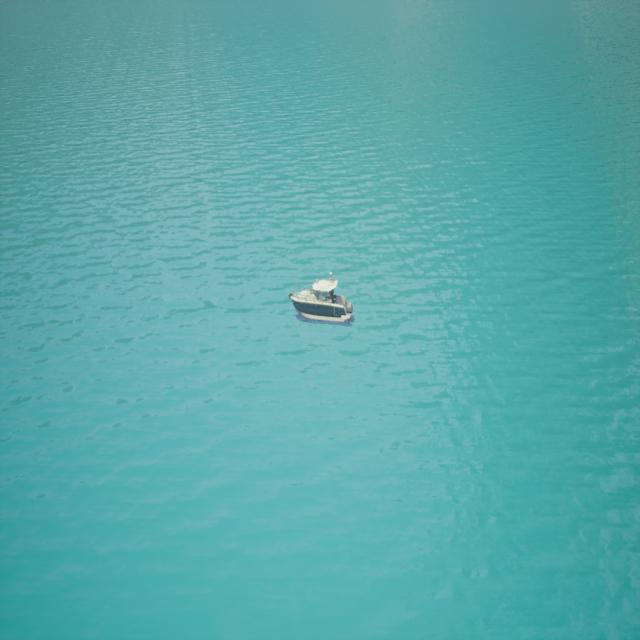ship: (288, 272, 354, 324)
